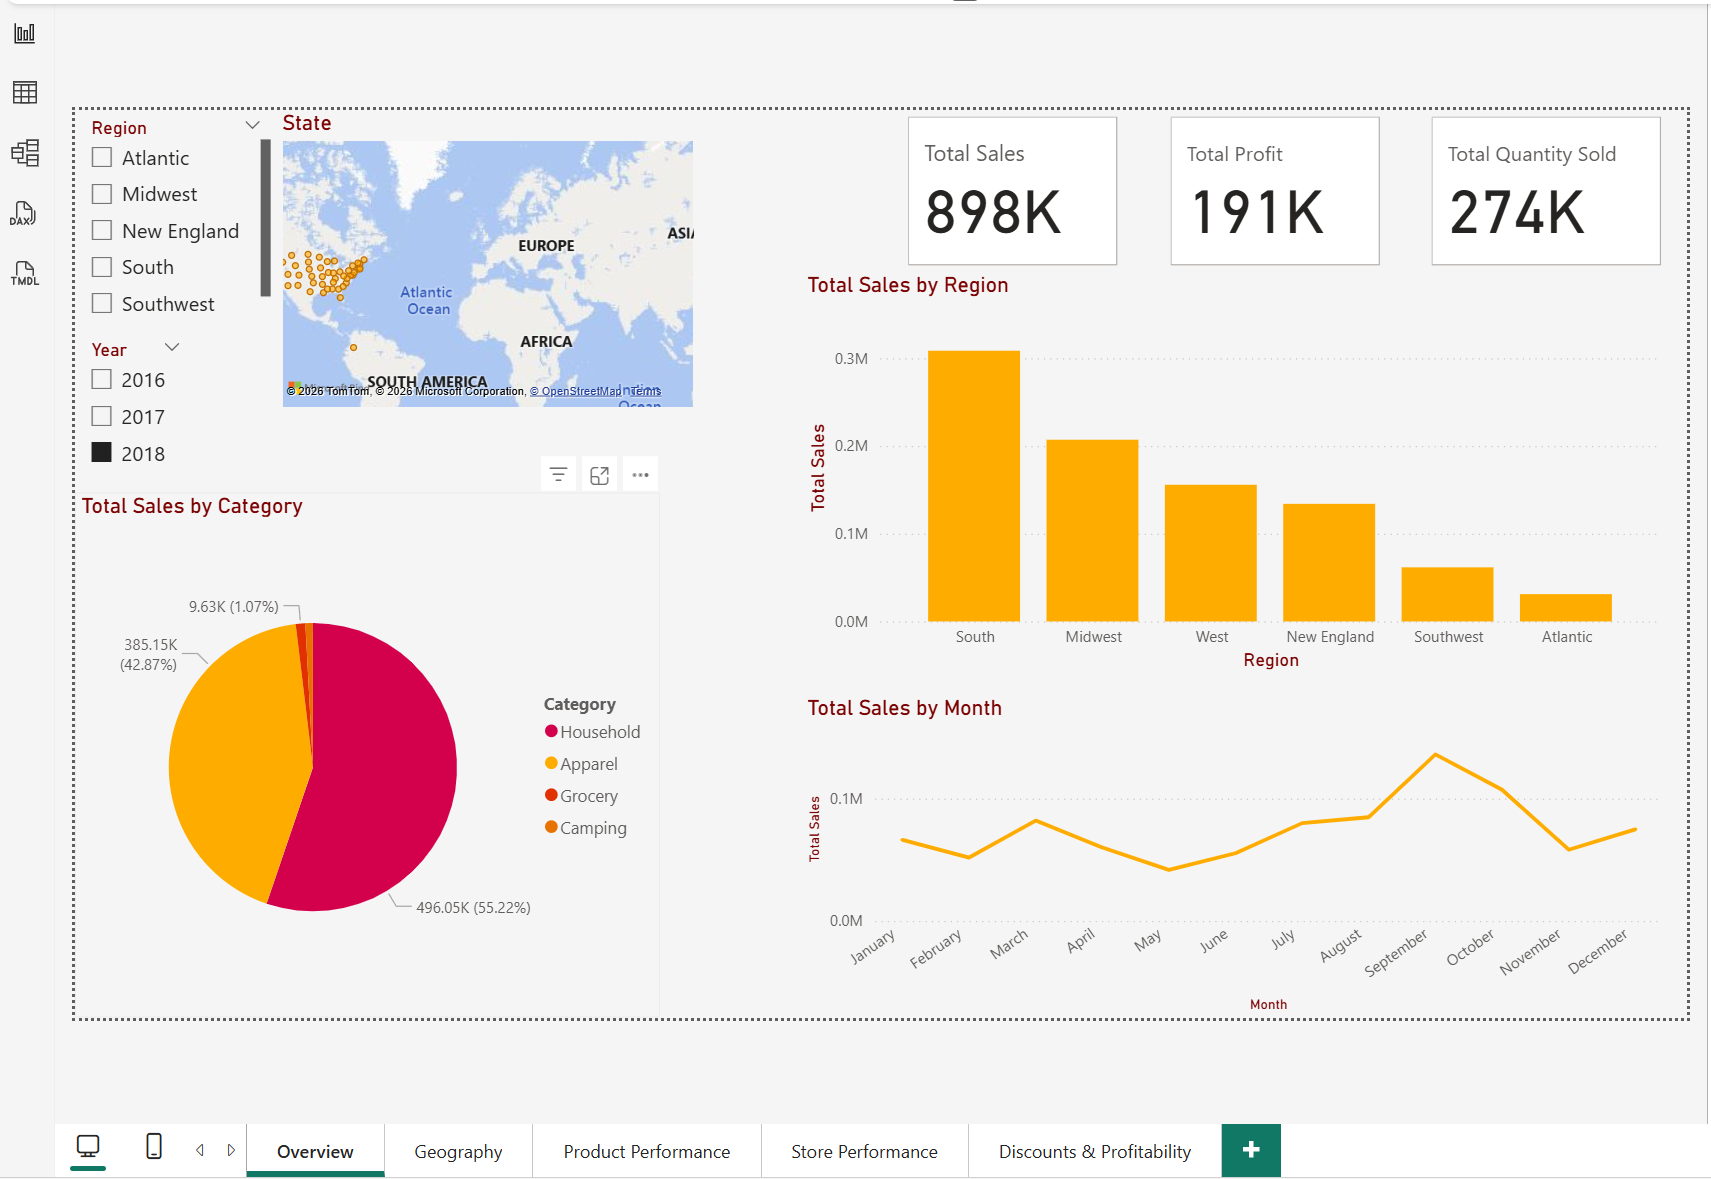

Layout of this report page (visuals, bound fields, positions):
{"tool":"powerbi","page":{"name":"Overview","canvas":[1280,720],"ordinal":0},"visuals":[{"type":"map","fields":{"Category":["State & Region.State"]},"box":[160,0,336,240],"z":0},{"type":"slicer","fields":{"Values":["Region.Region"]},"box":[0,0,160,176],"z":1000},{"type":"lineChart","fields":{"Y":["Transactions.Total Sales"],"Category":["Transactions.Date.Variation.Date Hierarchy.Month"]},"box":[576,464,688,256],"z":2000},{"type":"clusteredColumnChart","fields":{"Category":["Region.Region"],"Y":["Transactions.Total Sales"]},"box":[576,128,688,320],"z":3000},{"type":"pieChart","fields":{"Y":["Transactions.Total Sales"],"Category":["Transactions.Category"]},"box":[0,304,464,416],"z":4000},{"type":"cardVisual","fields":{"Data":["Transactions.Total Sales"]},"box":[656,0,176,128],"z":5000},{"type":"cardVisual","fields":{"Data":["Transactions.Total Profit"]},"box":[864,0,176,128],"z":6000},{"type":"cardVisual","fields":{"Data":["Transactions.Total Quantity Sold"]},"box":[1072,0,192,128],"z":7000},{"type":"slicer","fields":{"Values":["Transactions.Date.Variation.Date Hierarchy.Year"]},"box":[0,176,96,128],"z":8000}]}

Visuals, with their boxes on the page's 1280x720 design canvas (x1, y1, x2, y2). These are canvas units, not pixel positions in the 1711x1179 screenshot, which may show the page scaled, cropped or inside an application window:
map - State & Region.State: left=160, top=0, right=496, bottom=240
slicer - Region.Region: left=0, top=0, right=160, bottom=176
lineChart - Transactions.Total Sales x Transactions.Date.Variation.Date Hierarchy.Month: left=576, top=464, right=1264, bottom=720
clusteredColumnChart - Region.Region x Transactions.Total Sales: left=576, top=128, right=1264, bottom=448
pieChart - Transactions.Total Sales x Transactions.Category: left=0, top=304, right=464, bottom=720
cardVisual - Transactions.Total Sales: left=656, top=0, right=832, bottom=128
cardVisual - Transactions.Total Profit: left=864, top=0, right=1040, bottom=128
cardVisual - Transactions.Total Quantity Sold: left=1072, top=0, right=1264, bottom=128
slicer - Transactions.Date.Variation.Date Hierarchy.Year: left=0, top=176, right=96, bottom=304
